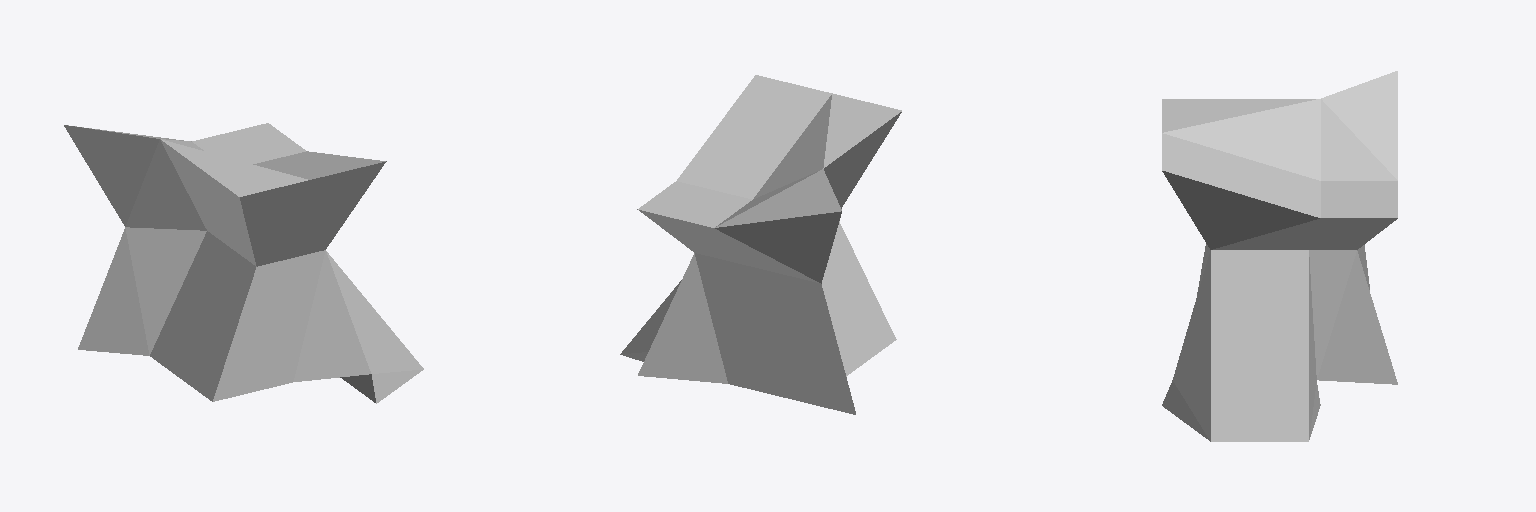
File: ShapeTri.obj
3 renders of one model, left to right at view 1: azimuth 30°, elevation 25°; view 2: azimuth 150°, elevation 25°; view 3: azimuth 270°, elevation 25°, orthographic.
Visible parts, largest first — view 1: Cube; view 2: Cube; view 3: Cube.
Boxes of the visible parts, <box> form: Cube: <box>64,123,423,403</box>; Cube: <box>620,75,901,414</box>; Cube: <box>1162,71,1397,441</box>.
Bounding box in the file's own units: 2.61 × 2.25 × 2.